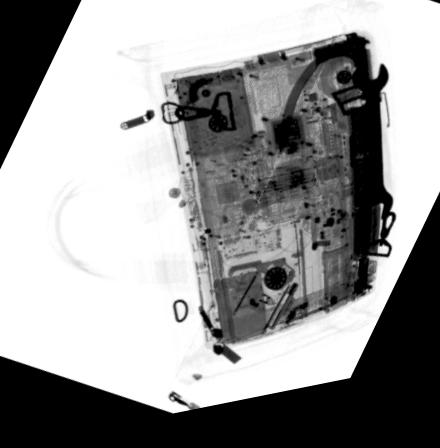Wrench: (347, 77, 394, 239)
